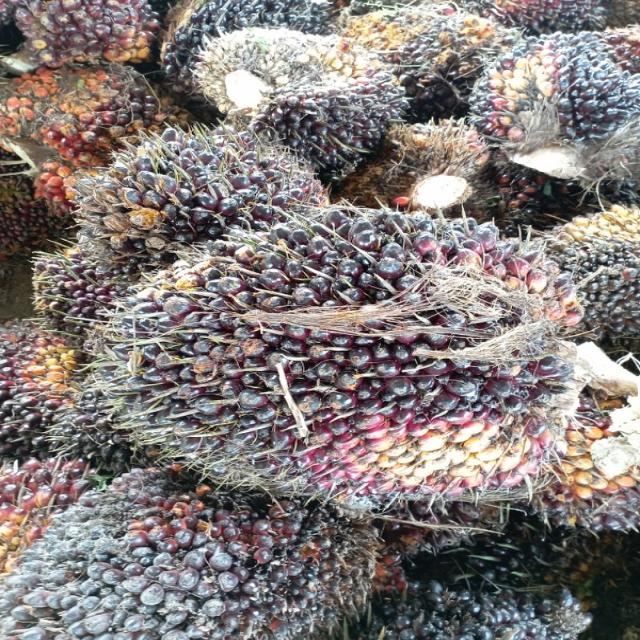fraksi 00: (90, 206, 568, 512), (26, 131, 367, 306), (190, 22, 400, 157), (465, 26, 634, 156)
fraksi 1: (0, 474, 357, 640)
